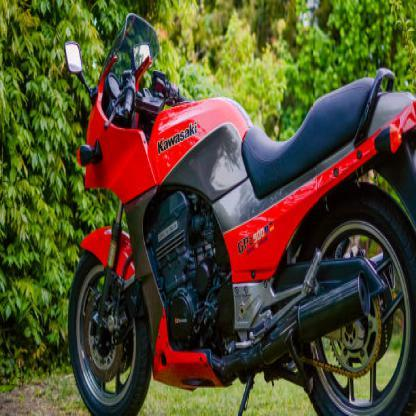Motorcycle: (55, 8, 416, 415)
